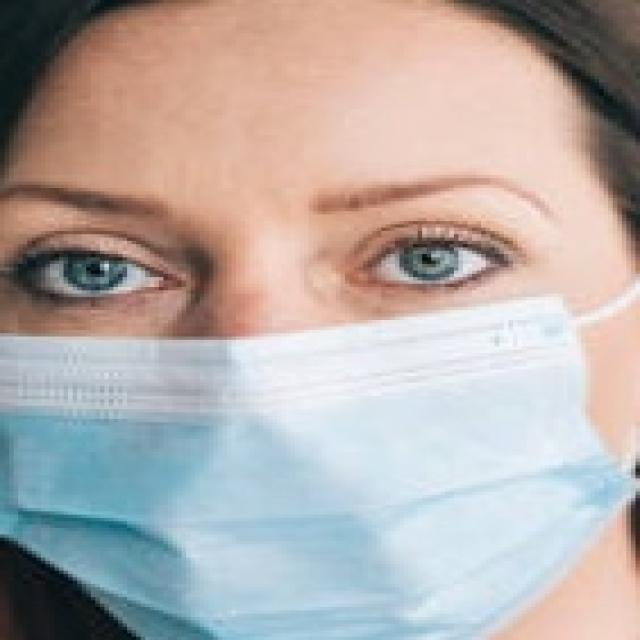Anxiety: (5, 0, 640, 633)
